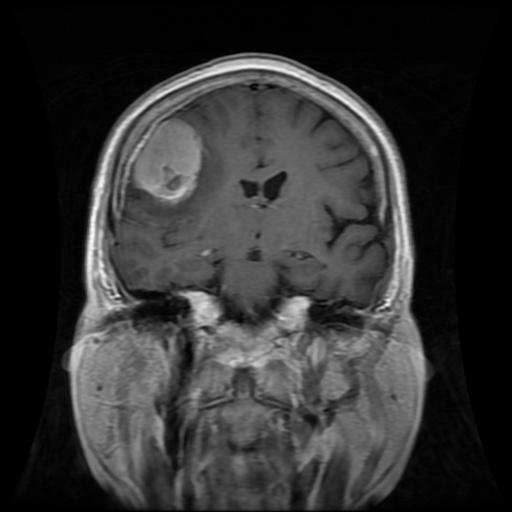meningioma: (135, 117, 201, 200)
